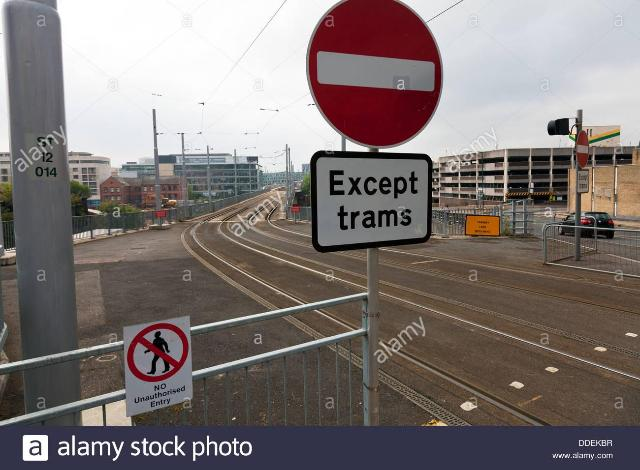B2: (304, 1, 444, 150)
